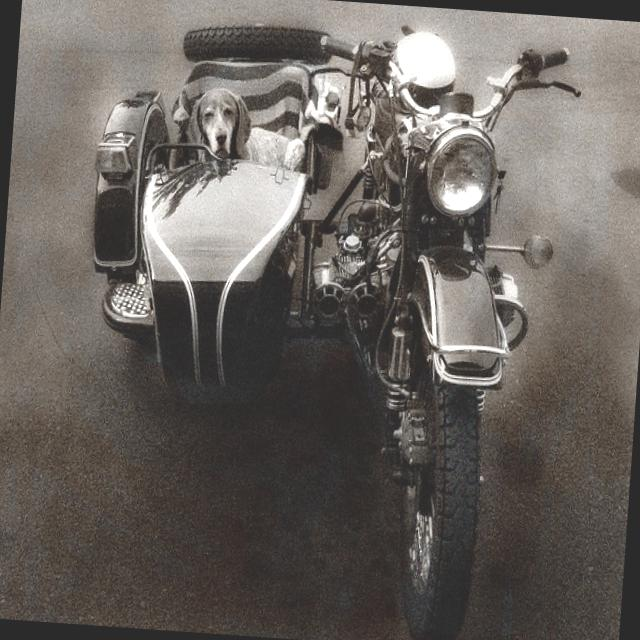Vehicle: (65, 4, 587, 618)
